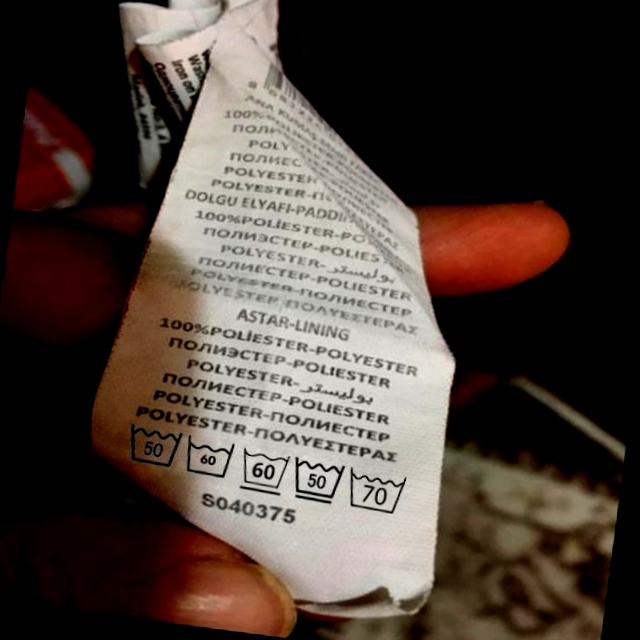50C: (119, 415, 188, 474), (287, 453, 349, 509)
60C: (236, 443, 295, 498), (180, 431, 240, 484)
70C: (344, 465, 414, 518)
